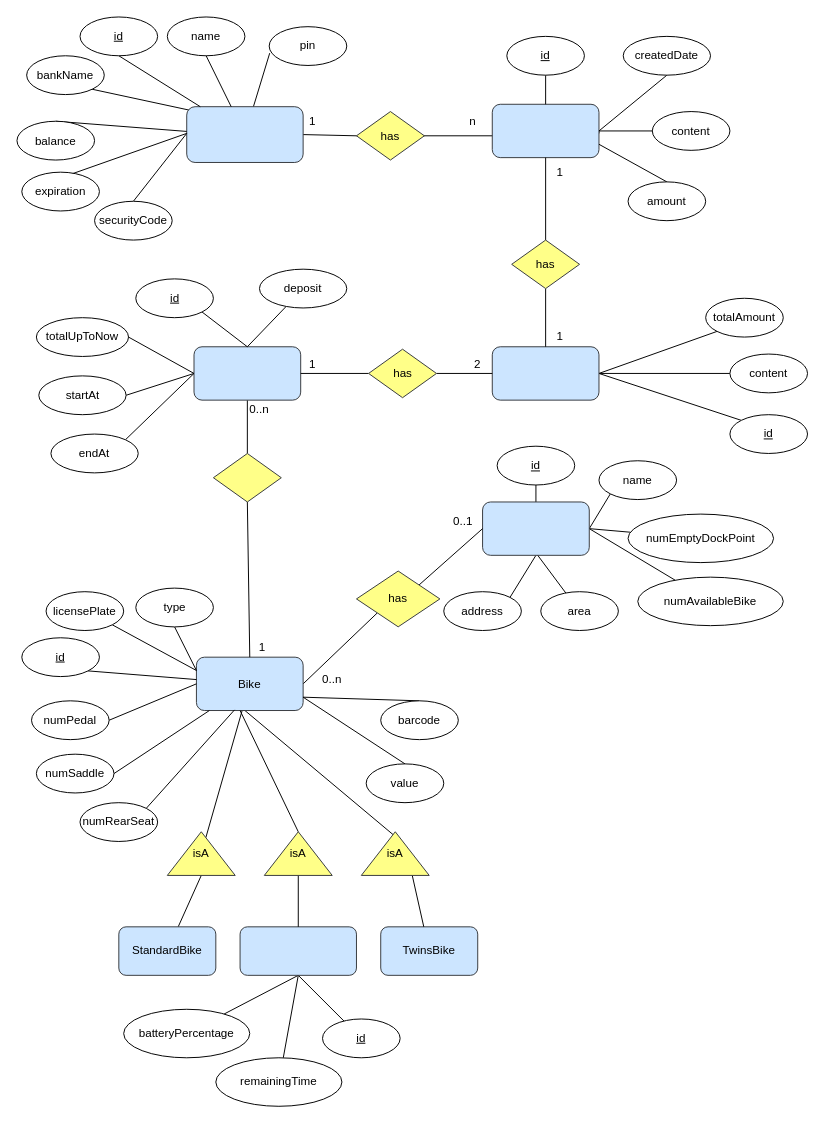
Image size: 825x1123. Some labels were removed from this diagram. Each missing label, with the centre of its shape:
Card: pixel 244 134
Invoice: pixel 545 373
Order: pixel 247 373
StandardElectricBike: pixel 297 950
Station: pixel 535 528
TransactionInfo: pixel 545 130
use: pixel 246 477
